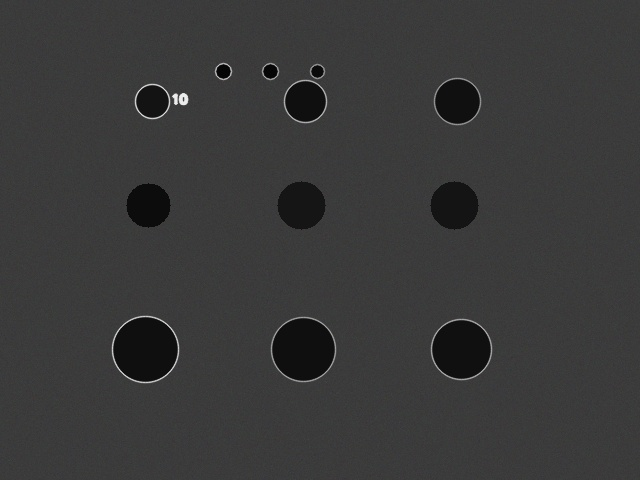hole: (112, 316, 178, 382), (271, 317, 335, 381), (431, 319, 491, 379), (277, 181, 325, 229), (430, 181, 478, 229), (434, 78, 480, 124), (126, 183, 170, 227), (284, 80, 326, 122), (135, 84, 169, 118), (215, 63, 231, 79), (262, 63, 278, 79), (310, 64, 324, 78)
